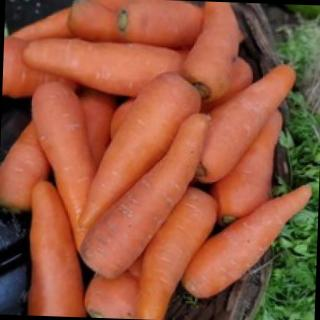Wortel: (77, 109, 211, 280), (76, 68, 202, 234), (179, 178, 315, 305), (201, 62, 301, 191), (135, 180, 223, 320), (20, 38, 186, 102), (26, 179, 93, 319)
